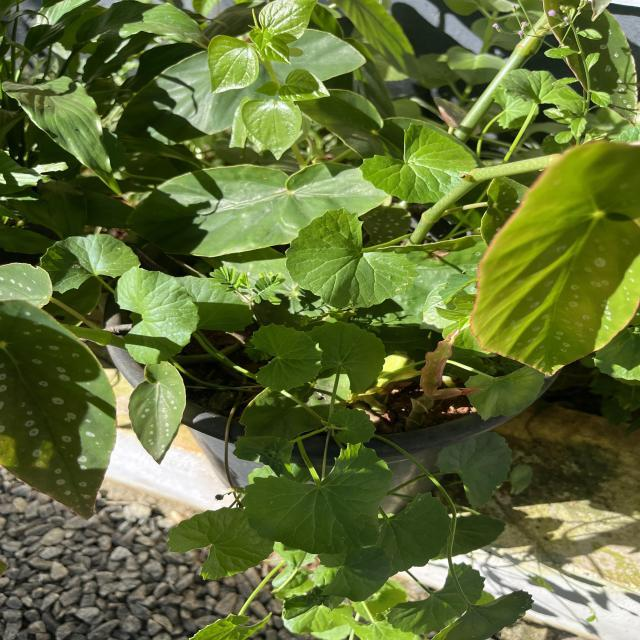Centella asiatica: (238, 440, 396, 556), (282, 204, 422, 310), (357, 121, 482, 206), (111, 264, 202, 368), (162, 504, 276, 582), (304, 318, 388, 396), (246, 321, 326, 394), (325, 406, 378, 448)
